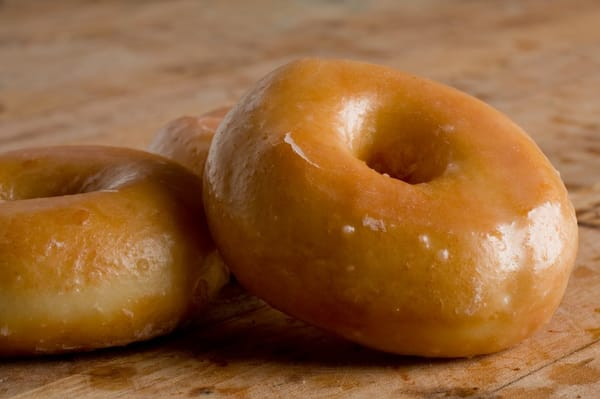curry: (10, 3, 598, 385)
salad: (198, 59, 578, 360), (0, 145, 225, 357)
